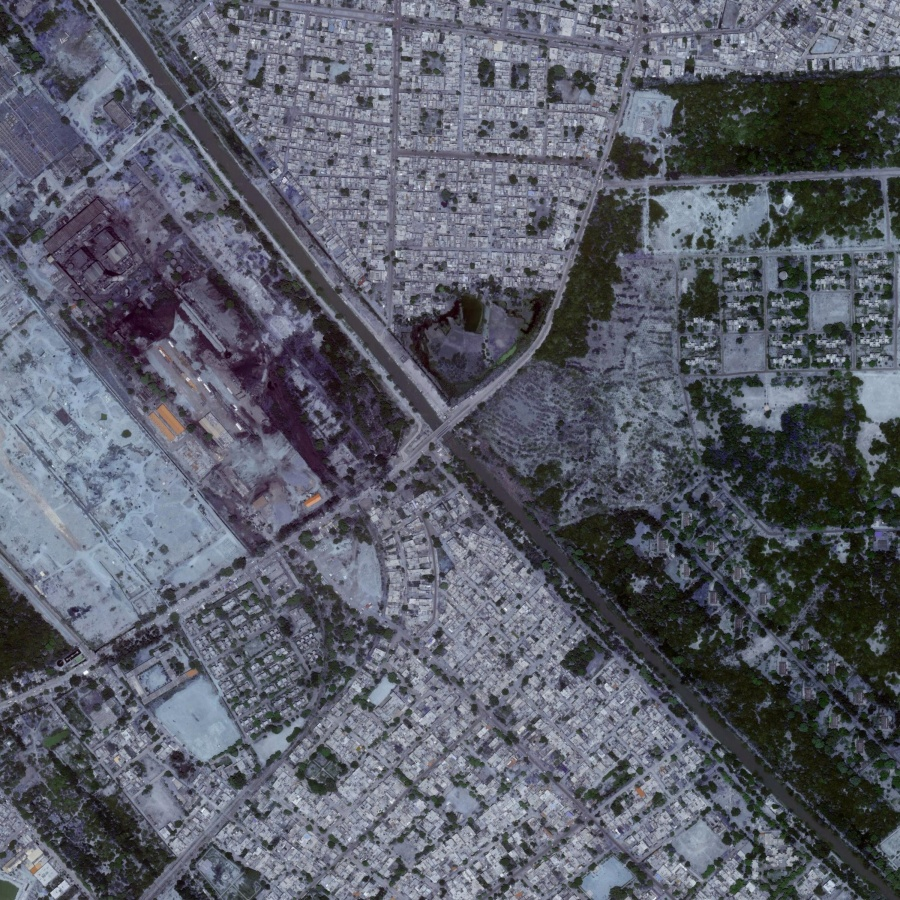PowerPlant: (44, 191, 343, 514)
